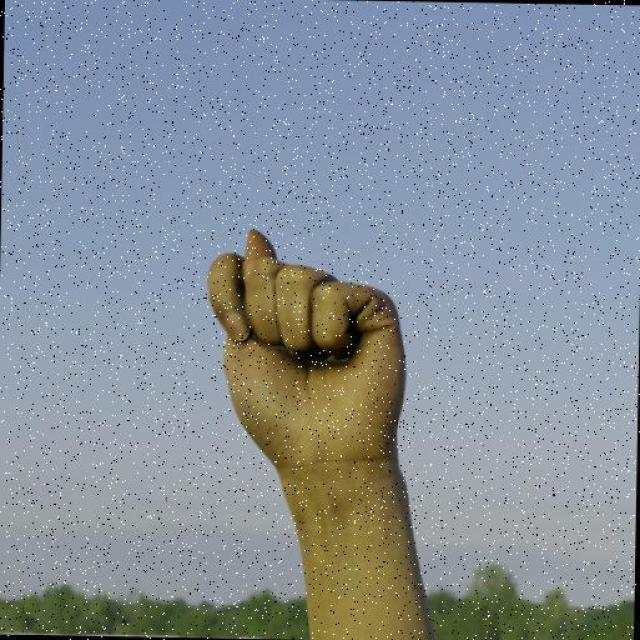T: (201, 226, 413, 477)
